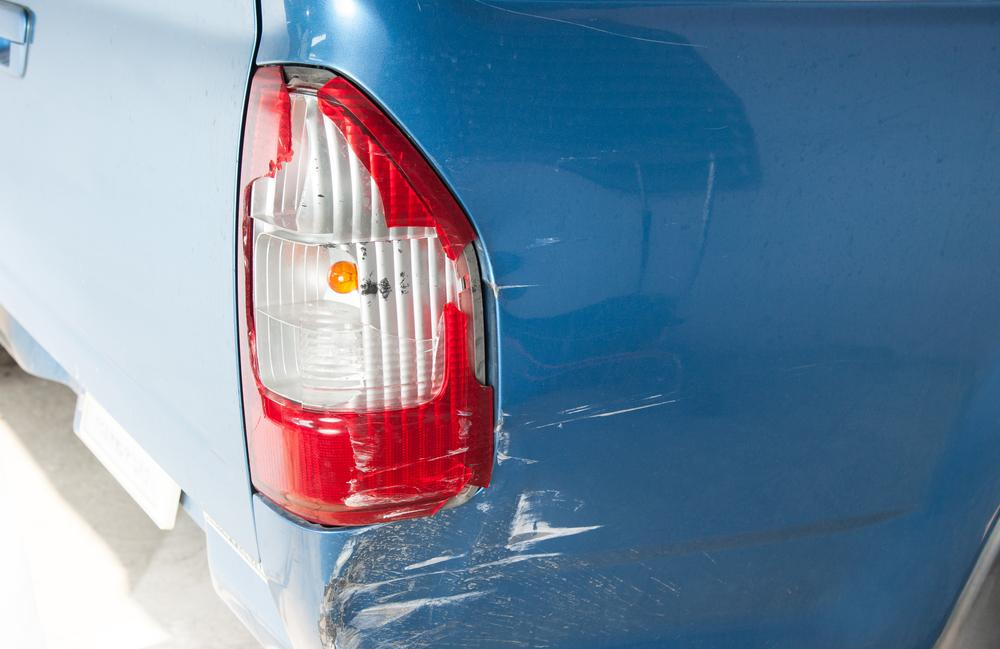lamp broken: (237, 62, 498, 529)
scratch: (316, 382, 692, 649)
